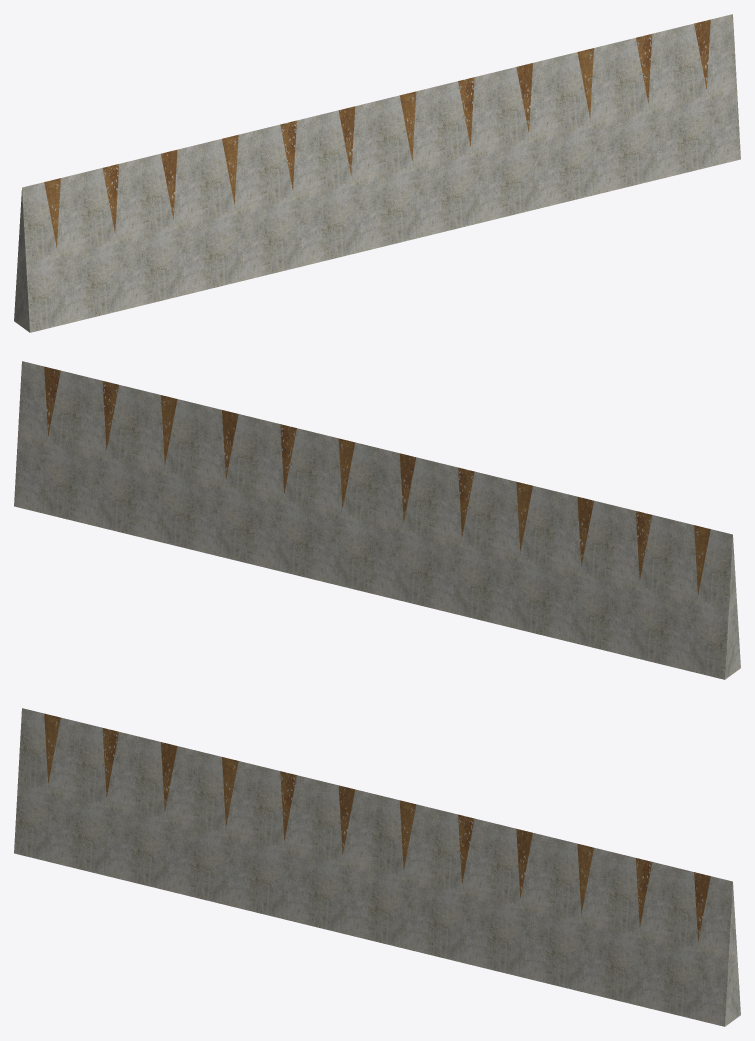
The model's file is mun_all_military_wall_weak_rebl_32_s01_l2.fbx.
3 views of the same model, one above another, from view 1: azimuth 30°, elevation 25°; view 2: azimuth 150°, elevation 25°; view 3: azimuth 330°, elevation 25° (orthographic).
Visible parts, largest first — view 1: mesh_node; view 2: mesh_node; view 3: mesh_node.
Boxes of the visible parts, left/top/right/bottom form: mesh_node: left=14, top=14, right=740, bottom=332; mesh_node: left=14, top=361, right=740, bottom=679; mesh_node: left=14, top=708, right=740, bottom=1026.
Size of the model in its own units: 32 by 6 by 1.25.
